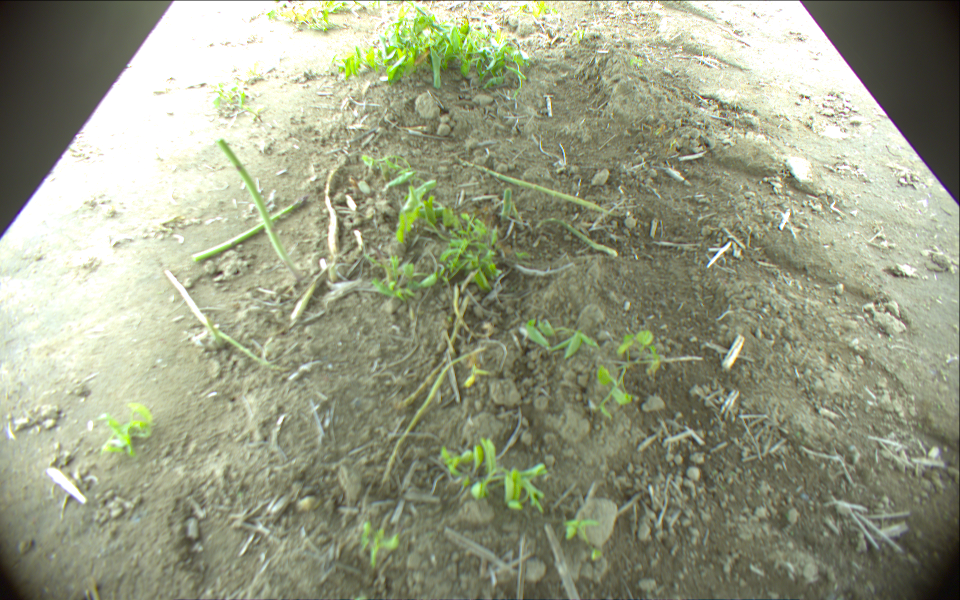aspa: (380, 348, 488, 487), (163, 266, 284, 372), (460, 158, 626, 219), (220, 140, 294, 266), (191, 193, 306, 263), (537, 216, 619, 258), (503, 189, 514, 220)
